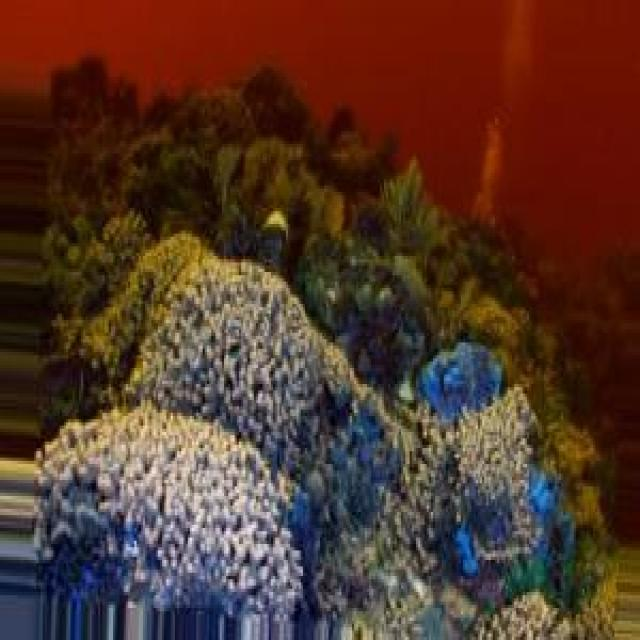Healthy: (338, 311, 549, 640), (99, 238, 357, 475), (37, 407, 304, 609)
